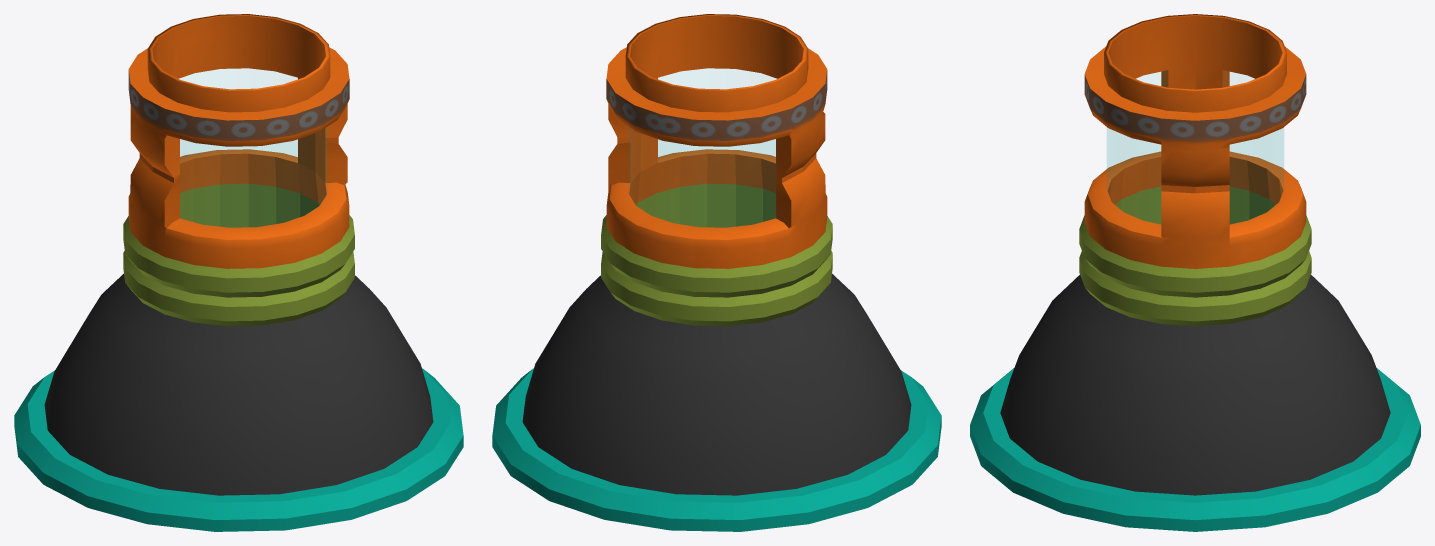
The model's file is Tubing_V2_Headfbx.fbx.
The picture shows the model from 3 angles, left to right: view 1: azimuth 30°, elevation 25°; view 2: azimuth 150°, elevation 25°; view 3: azimuth 270°, elevation 25°; orthographic projection.
Parts seen in each view (by area): view 1: Pipe_Head, Pipe_Straight_Glass2; view 2: Pipe_Head, Pipe_Straight_Glass2; view 3: Pipe_Head, Pipe_Straight_Glass2.
Part boxes in pixels (left/top/right/bottom): Pipe_Head: left=14, top=14, right=463, bottom=531; Pipe_Straight_Glass2: left=180, top=127, right=326, bottom=186; Pipe_Head: left=492, top=14, right=941, bottom=531; Pipe_Straight_Glass2: left=629, top=127, right=775, bottom=186; Pipe_Head: left=970, top=14, right=1420, bottom=531; Pipe_Straight_Glass2: left=1107, top=128, right=1283, bottom=188.
Size of the model in its own units: 305 by 287 by 305.
5 materials, 1 textured.
